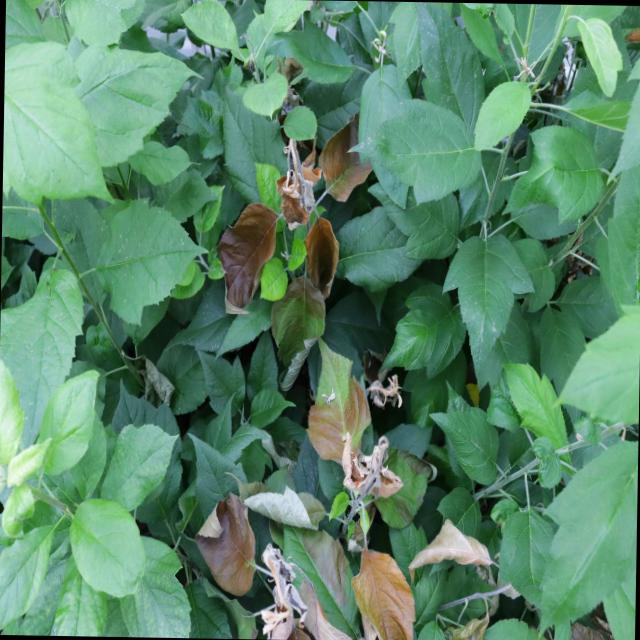-FireBlight-: (191, 348, 422, 640), (208, 96, 392, 396)
